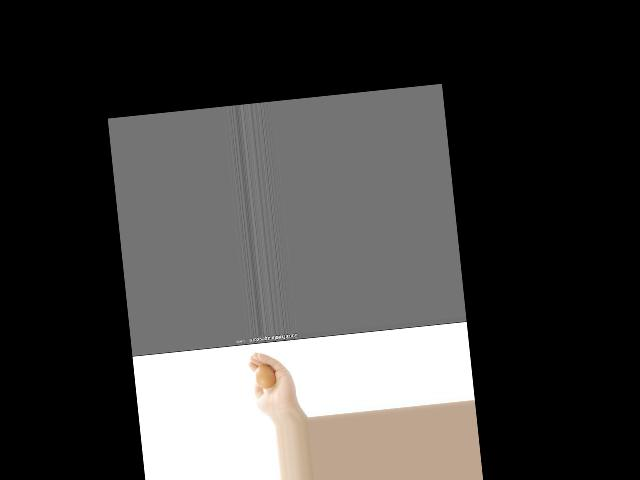egg: (254, 362, 276, 389)
